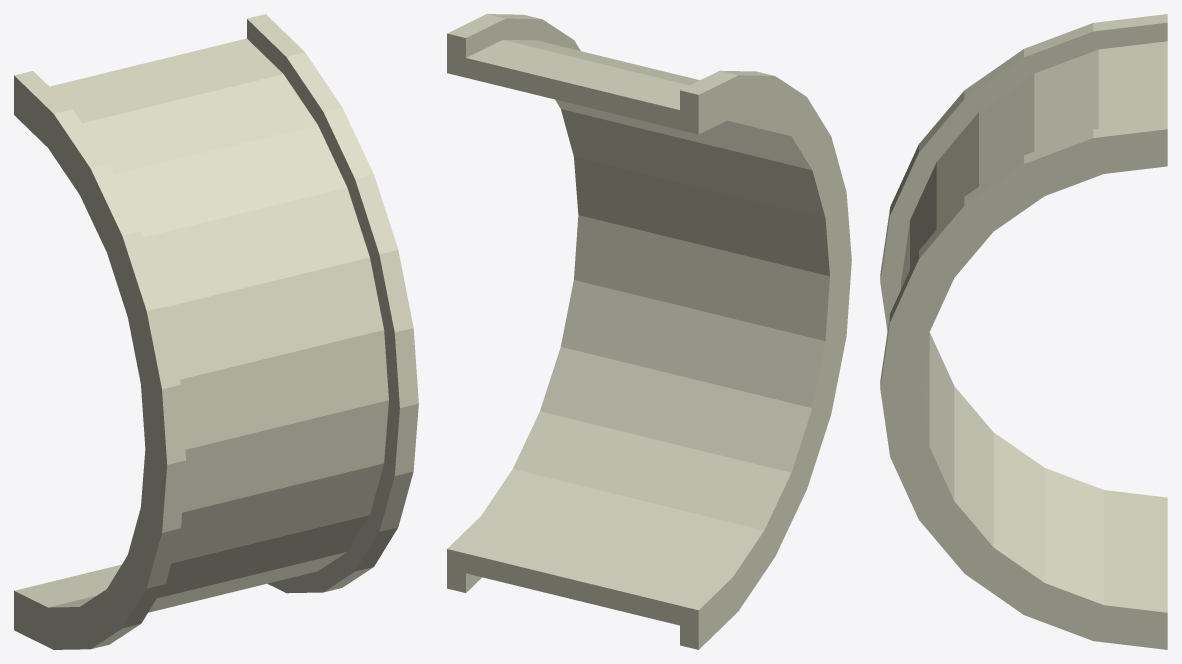
Rendered from section_030.obj.
3 renders of one model, left to right at view 1: azimuth 30°, elevation 25°; view 2: azimuth 150°, elevation 25°; view 3: azimuth 270°, elevation 25°, orthographic. The views are drawn at different scales.
Bounding box in the file's own units: 13.29 × 28 × 14.
